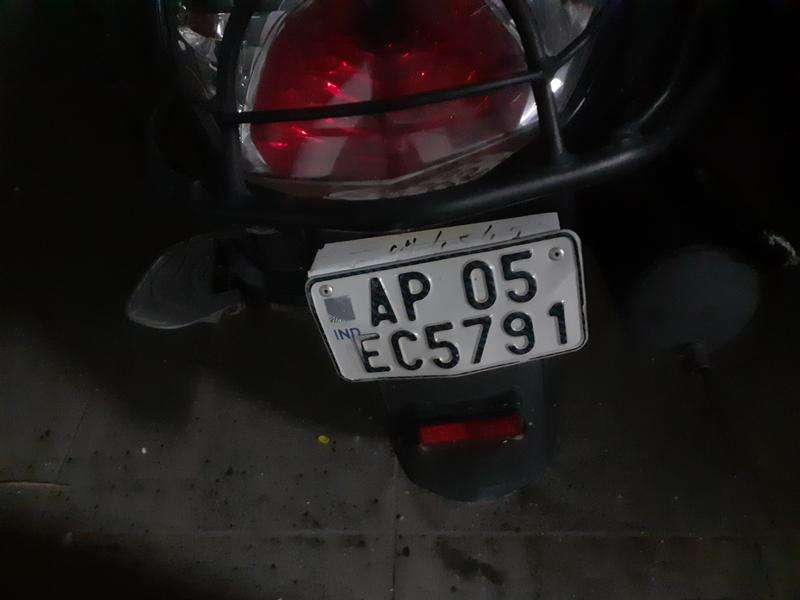numberplate: (318, 225, 586, 385)
